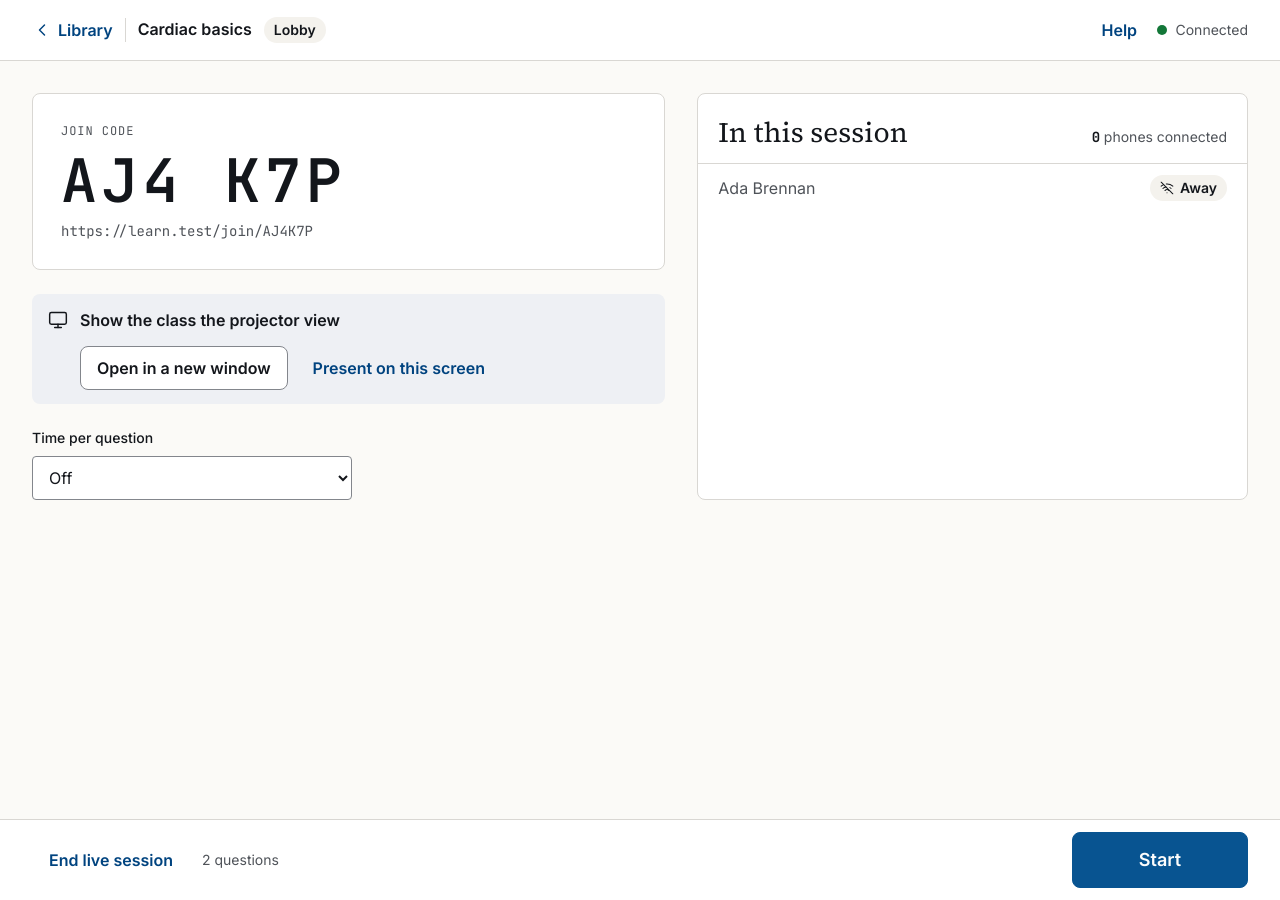
the control view: who has not answered yet › puts the list away once the answer is showing
What coordinates should you click on to do the following:
click the button "Start"
I would click on:
 (1160, 860)
Its box is [1072,832,1248,888].
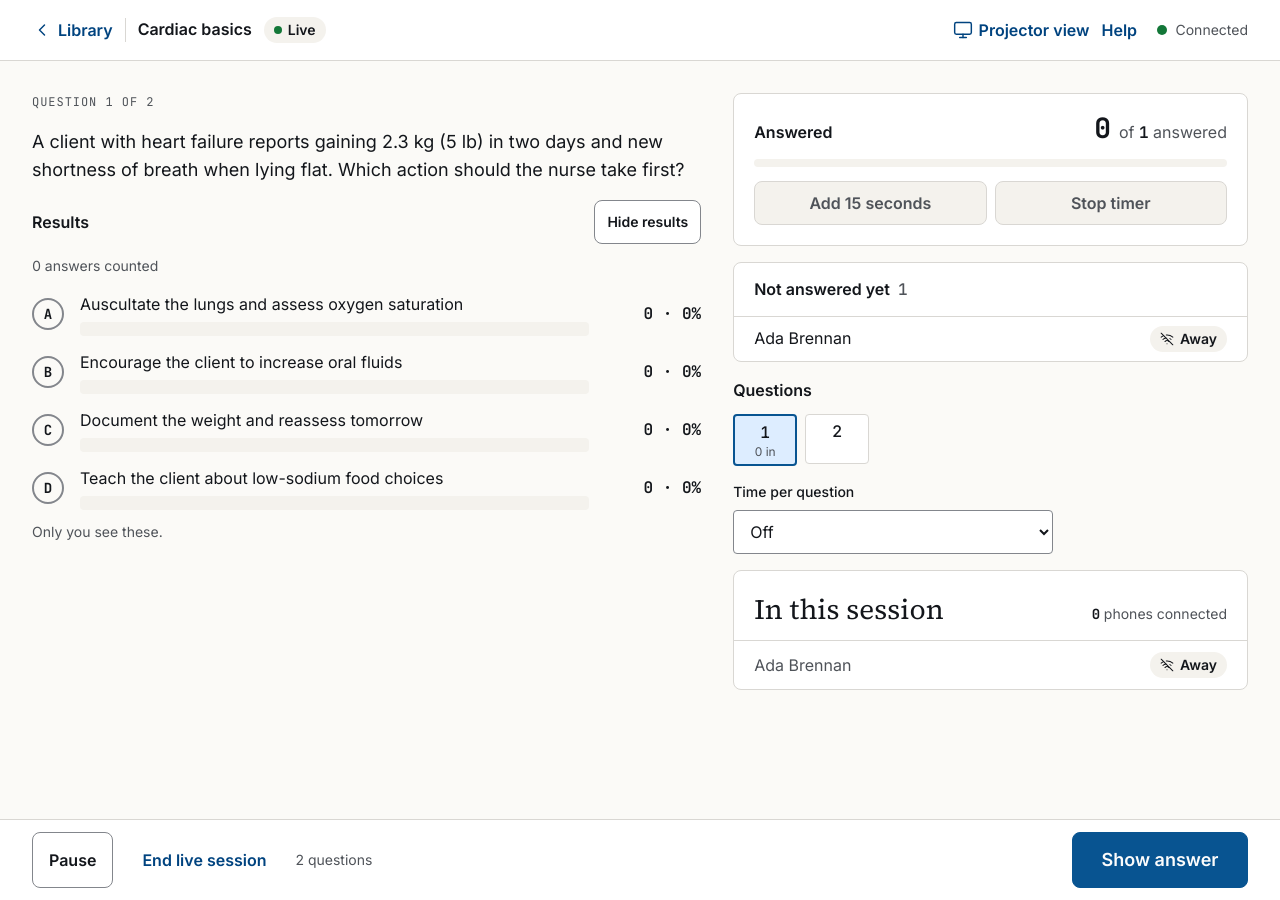
Expected: the element with test id "not-answered-list" is shown, [733,262,1248,362]
What coordinates should you click on to do the following:
click the button "Show answer"
I would click on:
 (1160, 860)
Its box is [1072,832,1248,888].
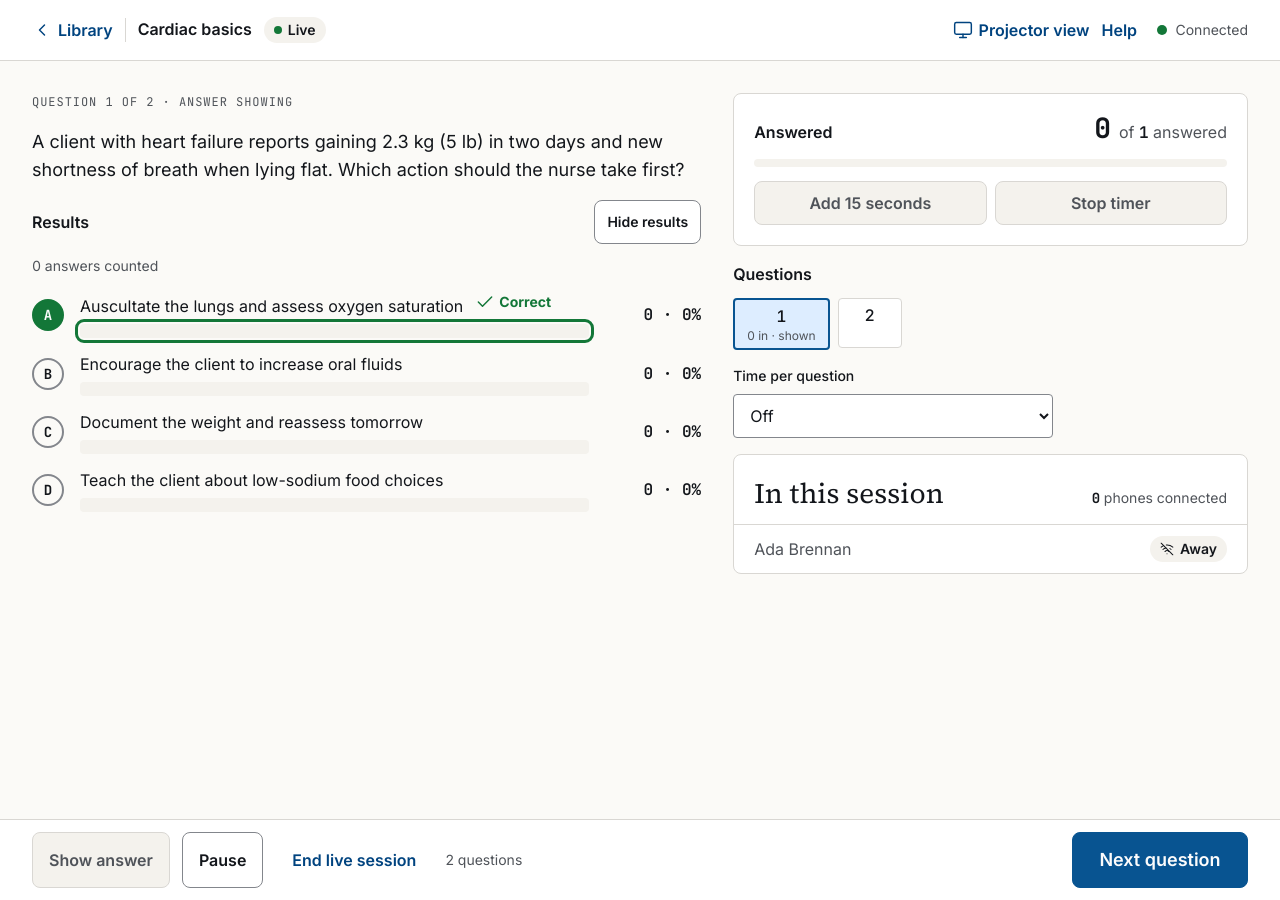
Expected: the element with test id "not-answered-list" is gone
